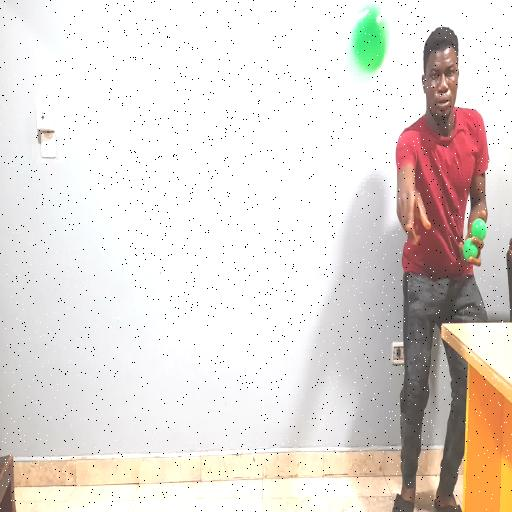plastic-ball: (352, 2, 391, 76)
